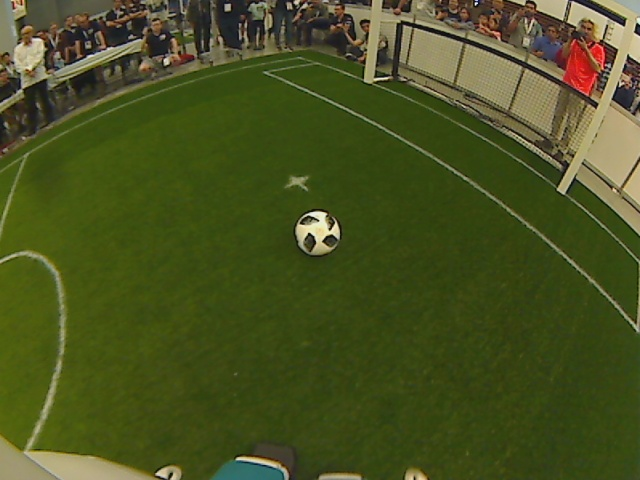ball: (293, 210, 341, 256)
